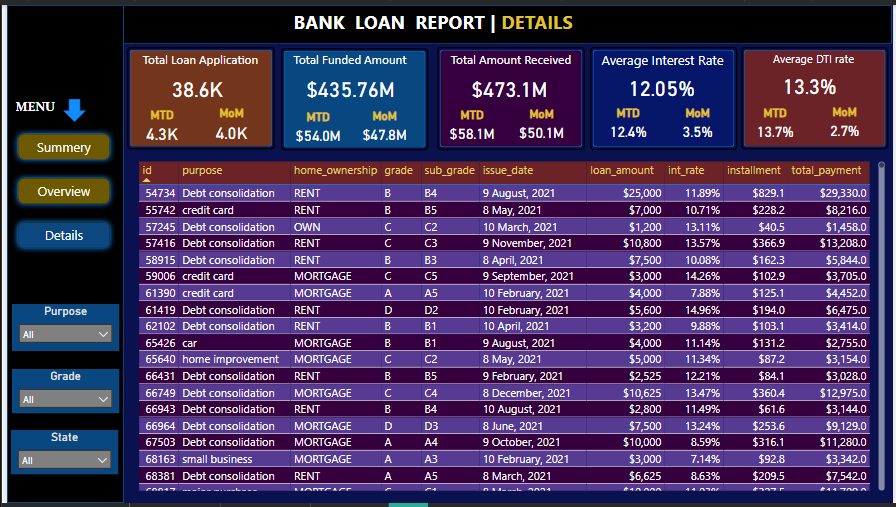

What the dashboard file says about the page in this screenshot:
{"tool":"powerbi","page":{"name":"Details","canvas":[1280,720],"ordinal":2},"visuals":[{"type":"shape","box":[173.5,60.7,214,148],"z":0},{"type":"shape","box":[0,0,1279.5,56.4],"z":1000},{"type":"textbox","box":[409.2,0,438.1,56.4],"z":2000},{"type":"shape","box":[0,0,169.2,720],"z":3000},{"type":"shape","box":[396.1,62.2,213,148],"z":4000},{"type":"shape","box":[621.7,60.7,214,148.9],"z":5000},{"type":"shape","box":[842.9,60.7,212.5,148.9],"z":6000},{"type":"shape","box":[1061.2,60.7,213,148],"z":7000},{"type":"card","fields":{"Values":["measure_table.loan_applicant"]},"box":[199.5,95.4,151.8,50.6],"z":8000},{"type":"card","fields":{"Values":["measure_table.Total funded"]},"box":[409.2,95.4,174.9,50.6],"z":9000},{"type":"card","fields":{"Values":["measure_table.Total amount received"]},"box":[646.3,95.4,160.5,50.6],"z":10000},{"type":"card","fields":{"Values":["measure_table.avg int rate"]},"box":[870.4,94,151.8,50.6],"z":11000},{"type":"card","fields":{"Values":["measure_table.Avg_dti"]},"box":[1085.8,91.1,148.9,50.6],"z":12000},{"type":"textbox","box":[185.1,62.2,189.4,39],"z":13000},{"type":"textbox","box":[396.1,62.2,199.5,37.6],"z":14000},{"type":"textbox","box":[621.7,62.2,214,37.6],"z":15000},{"type":"textbox","box":[847.2,62.2,201,36.1],"z":16000},{"type":"textbox","box":[1071.3,62.2,189.4,33.3],"z":17000},{"type":"card","title":"MTD","fields":{"Values":["measure_table.MTD_loan"]},"box":[173.5,148.9,101.2,54.9],"z":18000},{"type":"card","title":"MTD","fields":{"Values":["measure_table.MTD_funded"]},"box":[396.1,151.8,107,54.9],"z":19000},{"type":"card","title":"MTD","fields":{"Values":["measure_table.MTD_amount_received"]},"box":[621.7,148.9,101.2,54.9],"z":20000},{"type":"card","title":"MTD","fields":{"Values":["measure_table.MTD_avg_int"]},"box":[847.2,146,101.2,54.9],"z":21000},{"type":"card","title":"MTD","fields":{"Values":["measure_table.MTD_avg_dti"]},"box":[1059.8,146,101.2,54.9],"z":22000},{"type":"card","title":"MoM","fields":{"Values":["measure_table.MoM loan applicant"]},"box":[274.7,146,99.8,56.4],"z":23000},{"type":"card","title":"MoM","fields":{"Values":["measure_table.MoM_funded"]},"box":[495.9,150.4,99.8,56.4],"z":24000},{"type":"card","title":"MoM","fields":{"Values":["measure_table.MoM_received"]},"box":[722.9,147.5,99.8,56.4],"z":25000},{"type":"card","title":"MoM","fields":{"Values":["measure_table.MoM_avg_int"]},"box":[948.4,146,99.8,56.4],"z":26000},{"type":"card","title":"MoM","fields":{"Values":["measure_table.MoM_avg_dti"]},"box":[1161,144.6,99.8,56.4],"z":27000},{"type":"slicer","title":"Purpose","fields":{"Values":["bank_loan_data.purpose"]},"box":[7.2,432.3,154.7,68],"z":30000},{"type":"slicer","title":"Grade","fields":{"Values":["bank_loan_data.grade"]},"box":[7.2,526.3,154.7,63.6],"z":31000},{"type":"slicer","title":"State","fields":{"Values":["bank_loan_data.address_state"]},"box":[5.8,614.5,154.7,63.6],"z":32000},{"type":"tableEx","fields":{"Values":["bank_loan_data.id","bank_loan_data.purpose","bank_loan_data.home_ownership","bank_loan_data.grade","bank_loan_data.sub_grade","bank_loan_data.issue_date","bank_loan_data.loan_amount","bank_loan_data.int_rate","bank_loan_data.installment","bank_loan_data.total_payment"]},"box":[185.1,221.2,1088.7,485.8],"z":32001},{"type":"pageNavigator","box":[7.2,177.8,150.4,182.2],"z":32002},{"type":"textbox","box":[7.2,130.1,85.3,41.9],"z":32003},{"type":"shape","box":[81,135.9,33.3,33.3],"z":32004}]}

Visuals, with their boxes in screenshot pixels (x1, y1, x2, y2), scaled from the page's 1280x720 canvas onto the 896x507 screenshot:
shape: x1=121, y1=43, x2=271, y2=147
shape: x1=0, y1=0, x2=895, y2=40
textbox: x1=286, y1=0, x2=593, y2=40
shape: x1=0, y1=0, x2=118, y2=506
shape: x1=277, y1=44, x2=426, y2=148
shape: x1=435, y1=43, x2=585, y2=148
shape: x1=590, y1=43, x2=739, y2=148
shape: x1=743, y1=43, x2=892, y2=147
card - measure_table.loan_applicant: x1=140, y1=67, x2=246, y2=103
card - measure_table.Total funded: x1=286, y1=67, x2=409, y2=103
card - measure_table.Total amount received: x1=452, y1=67, x2=565, y2=103
card - measure_table.avg int rate: x1=609, y1=66, x2=716, y2=102
card - measure_table.Avg_dti: x1=760, y1=64, x2=864, y2=100
textbox: x1=130, y1=44, x2=262, y2=71
textbox: x1=277, y1=44, x2=417, y2=70
textbox: x1=435, y1=44, x2=585, y2=70
textbox: x1=593, y1=44, x2=734, y2=69
textbox: x1=750, y1=44, x2=882, y2=67
"MTD" card: x1=121, y1=105, x2=192, y2=144
"MTD" card: x1=277, y1=107, x2=352, y2=146
"MTD" card: x1=435, y1=105, x2=506, y2=144
"MTD" card: x1=593, y1=103, x2=664, y2=141
"MTD" card: x1=742, y1=103, x2=813, y2=141
"MoM" card: x1=192, y1=103, x2=262, y2=143
"MoM" card: x1=347, y1=106, x2=417, y2=146
"MoM" card: x1=506, y1=104, x2=576, y2=144
"MoM" card: x1=664, y1=103, x2=734, y2=143
"MoM" card: x1=813, y1=102, x2=883, y2=142
"Purpose" slicer: x1=5, y1=304, x2=113, y2=352
"Grade" slicer: x1=5, y1=371, x2=113, y2=415
"State" slicer: x1=4, y1=433, x2=112, y2=477
tableEx - bank_loan_data.id x bank_loan_data.purpose: x1=130, y1=156, x2=892, y2=498
pageNavigator: x1=5, y1=125, x2=110, y2=254
textbox: x1=5, y1=92, x2=65, y2=121
shape: x1=57, y1=96, x2=80, y2=119
